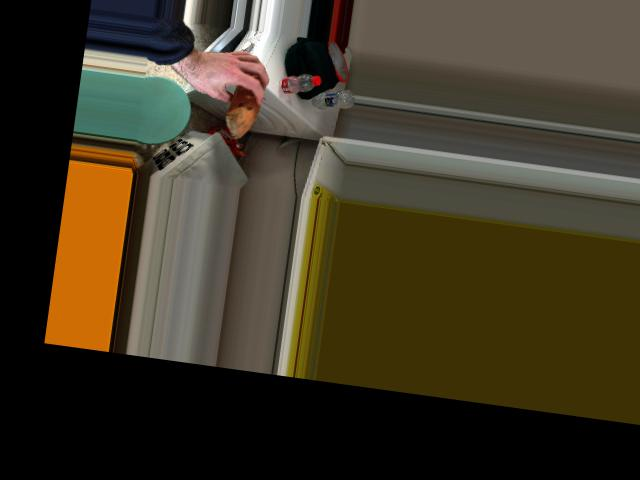sweet_potato: (231, 78, 259, 127)
